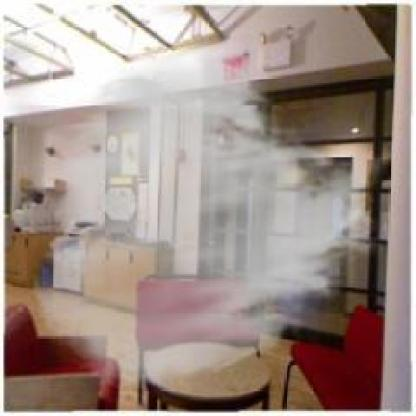Smoke: (29, 49, 390, 392)
